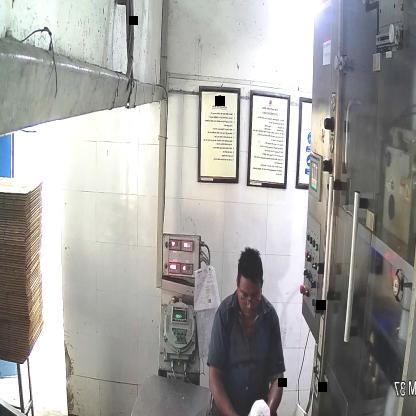goggles: (237, 286, 264, 310)
